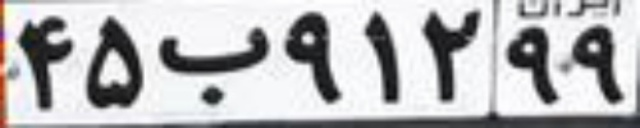1: (361, 9, 400, 104)
2: (423, 7, 481, 101)
4: (14, 15, 72, 110)
5: (81, 15, 145, 109)
9: (277, 9, 342, 104), (505, 23, 561, 105), (569, 23, 624, 105)
be: (153, 24, 270, 105)
